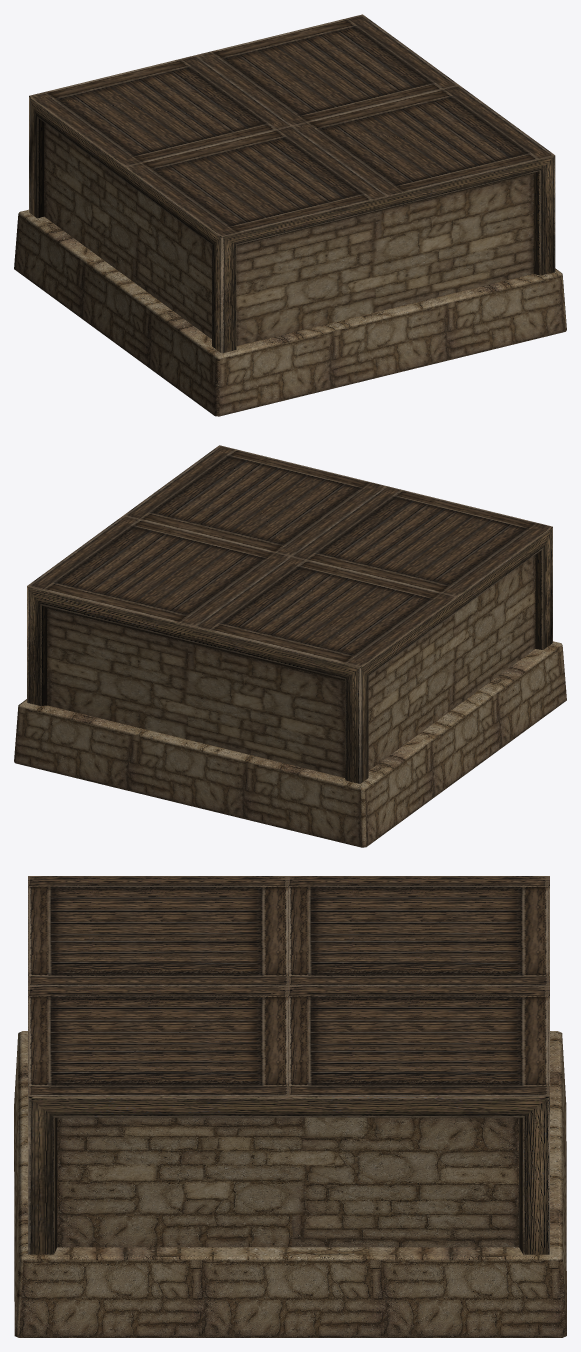
File: House_8X8_02b.fbx
The picture shows the model from 3 angles, top to bottom: view 1: azimuth 30°, elevation 25°; view 2: azimuth 150°, elevation 25°; view 3: azimuth 270°, elevation 25°; orthographic projection. The views are drawn at different scales.
Parts seen in each view (by area): view 1: House_8X8_02b; view 2: House_8X8_02b; view 3: House_8X8_02b.
Part boxes in pixels (x1=…): House_8X8_02b: x1=14, y1=14, x2=566, y2=416; House_8X8_02b: x1=14, y1=445, x2=566, y2=847; House_8X8_02b: x1=14, y1=876, x2=566, y2=1337.
Bounding box in the file's own units: 8.45 × 3.99 × 8.48.
